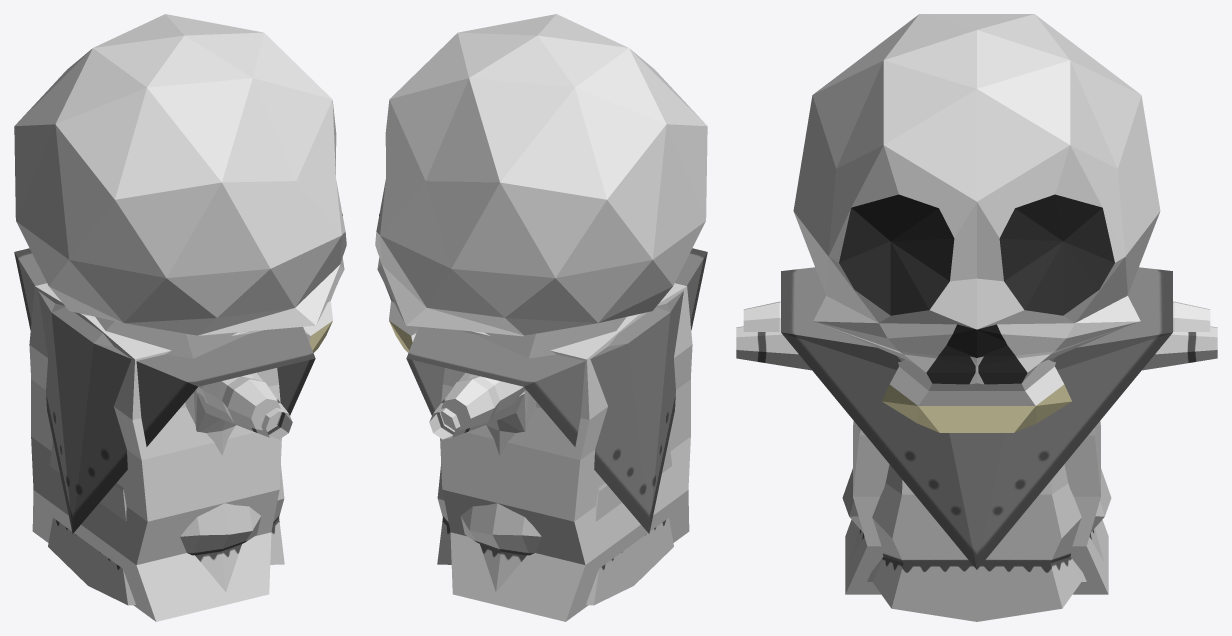
Rendered from Blink-Test.fbx.
3 views of the same model, side by side, from view 1: azimuth 30°, elevation 25°; view 2: azimuth 150°, elevation 25°; view 3: azimuth 270°, elevation 25° (orthographic). The views are drawn at different scales.
Visible parts, largest first — view 1: Skull, Icosphere, Cube; view 2: Skull, Icosphere, Cube; view 3: Skull, Icosphere, Cube.
Part boxes in pixels (box(x1,y1,x2,y2)): Skull: box(14, 14, 346, 352); Icosphere: box(14, 248, 315, 605); Cube: box(29, 283, 281, 621); Skull: box(375, 14, 707, 352); Icosphere: box(406, 248, 707, 605); Cube: box(440, 283, 692, 621); Skull: box(793, 14, 1160, 432); Icosphere: box(736, 267, 1217, 621); Cube: box(743, 301, 1210, 594).
Bounding box in the file's own units: 233 × 407 × 317.
4 materials, 1 textured.
